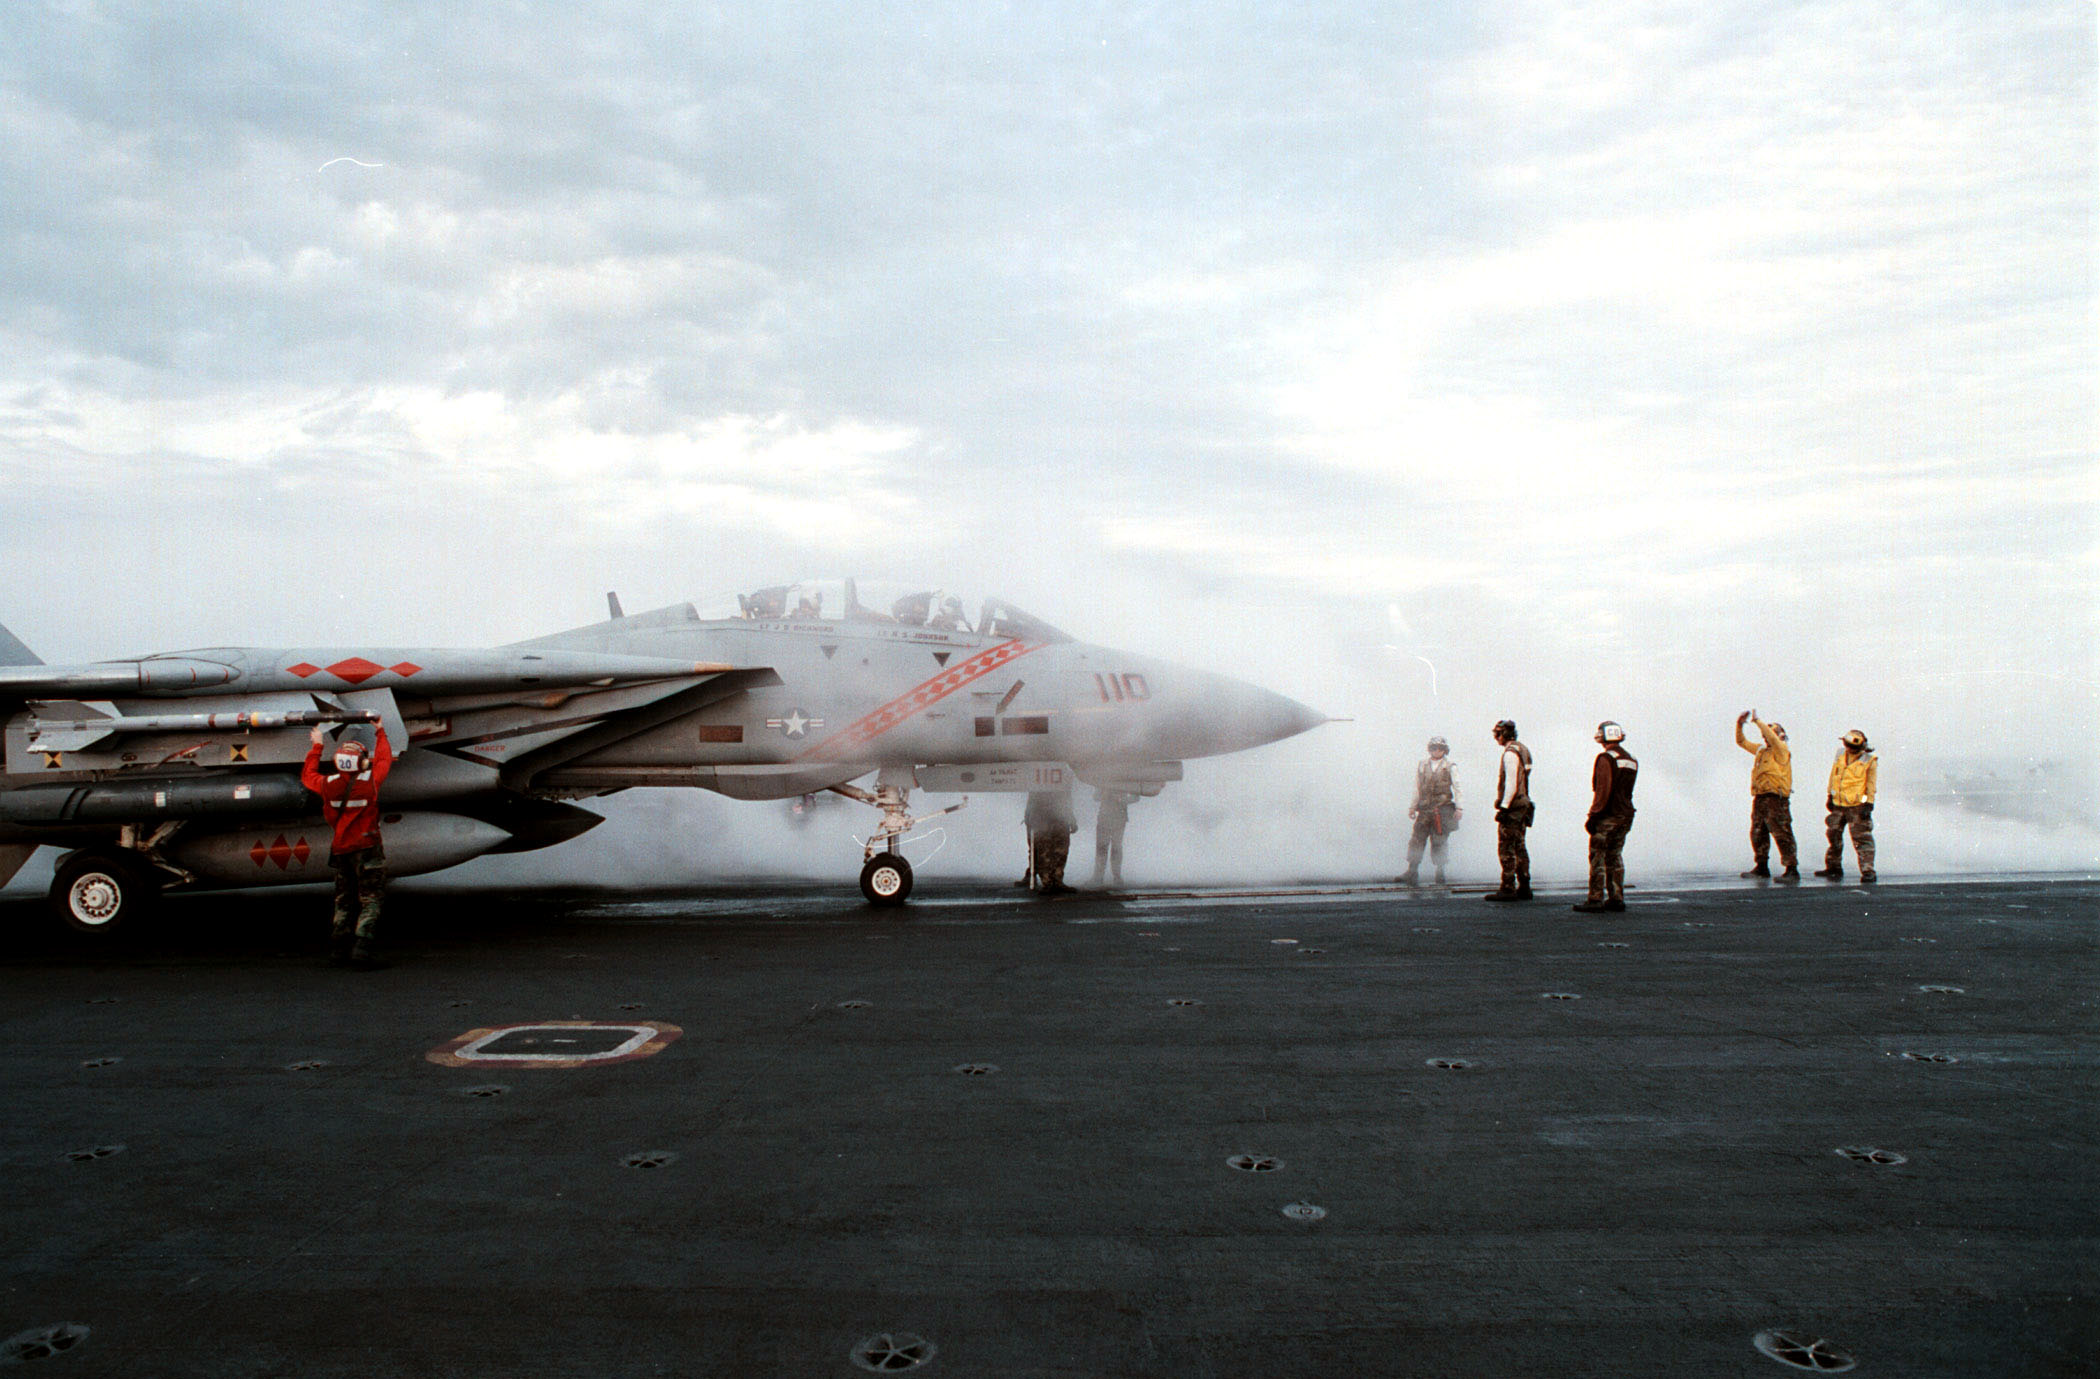F14: (2, 576, 1355, 943)
